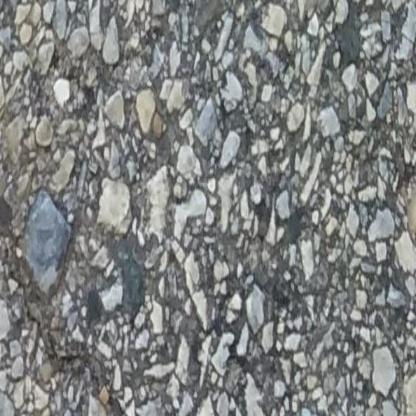Cracks: (0, 206, 143, 416)
